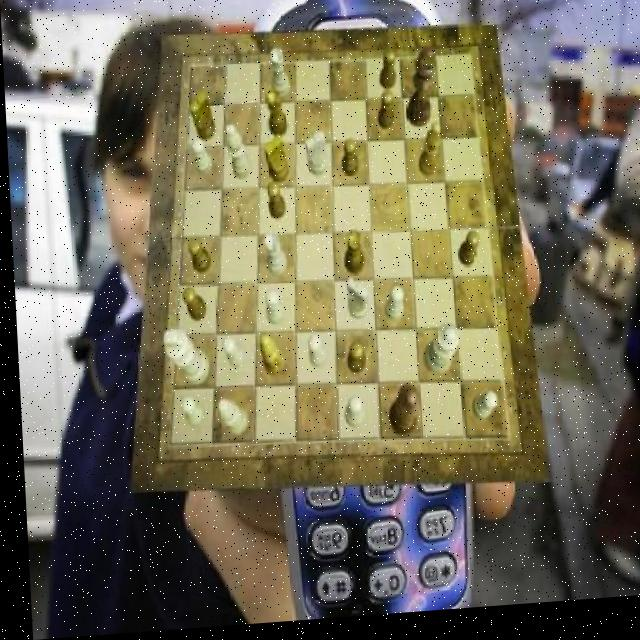bishop: (415, 127, 441, 183), (254, 335, 279, 379)
black-bishop: (401, 55, 437, 135)
black-king: (188, 94, 214, 145), (260, 138, 285, 188)
black-knight: (178, 288, 203, 324), (183, 241, 207, 278), (453, 238, 477, 273), (376, 56, 396, 97), (374, 96, 392, 137), (264, 186, 283, 224), (339, 144, 358, 181), (342, 347, 362, 379)
black-pawn: (382, 391, 417, 445)
black-queen: (264, 93, 286, 142), (339, 233, 361, 280)
black-rook: (224, 128, 249, 184), (212, 401, 243, 441)
white-bishop: (159, 331, 206, 391)
white-king: (302, 134, 325, 181), (344, 281, 367, 324)
white-knight: (217, 339, 242, 373), (177, 397, 201, 431), (189, 141, 209, 179), (379, 291, 400, 327), (467, 399, 492, 428), (303, 337, 322, 373), (261, 294, 280, 329), (340, 400, 360, 433)
white-pawn: (418, 330, 458, 383)
white-queen: (260, 235, 284, 282), (270, 53, 290, 103)
